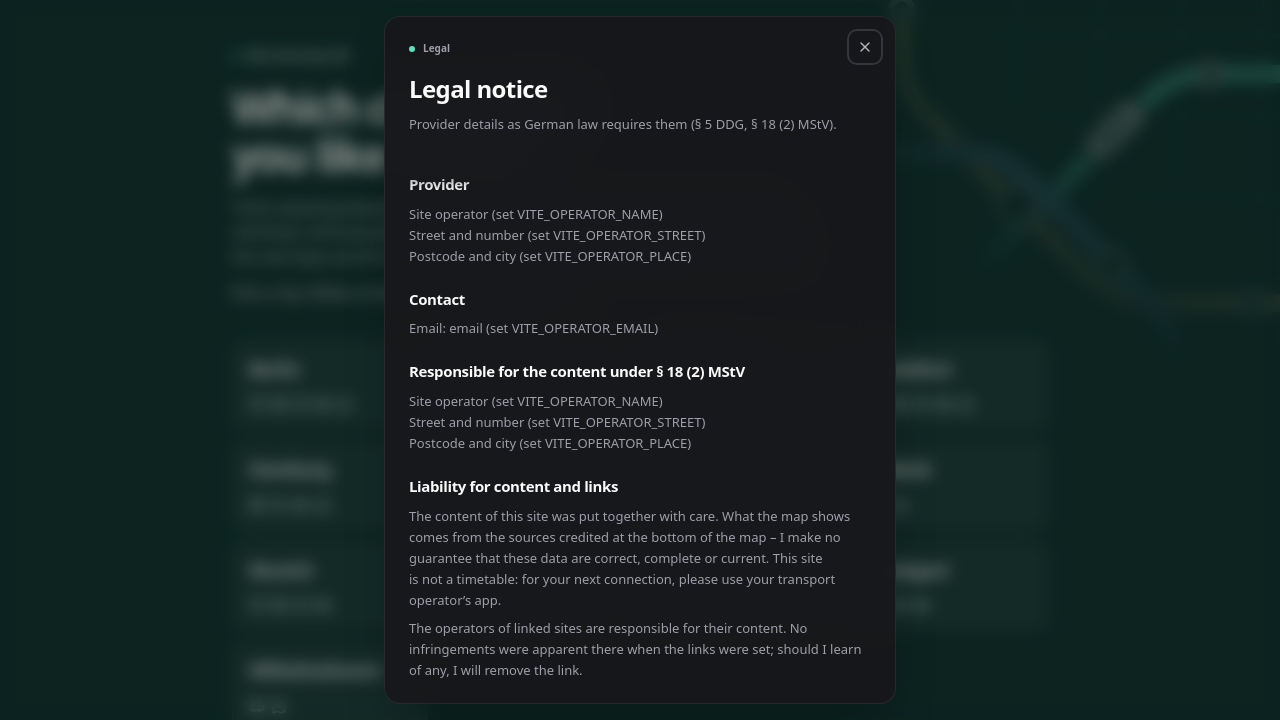
Test: App (UI shell) › opens the legal page’s notice over the door when its address is the one visited
This screenshot has width=1280, height=720.
Click the button named "Close" at (865, 47), box [849,31,881,63]
(page scrolled)
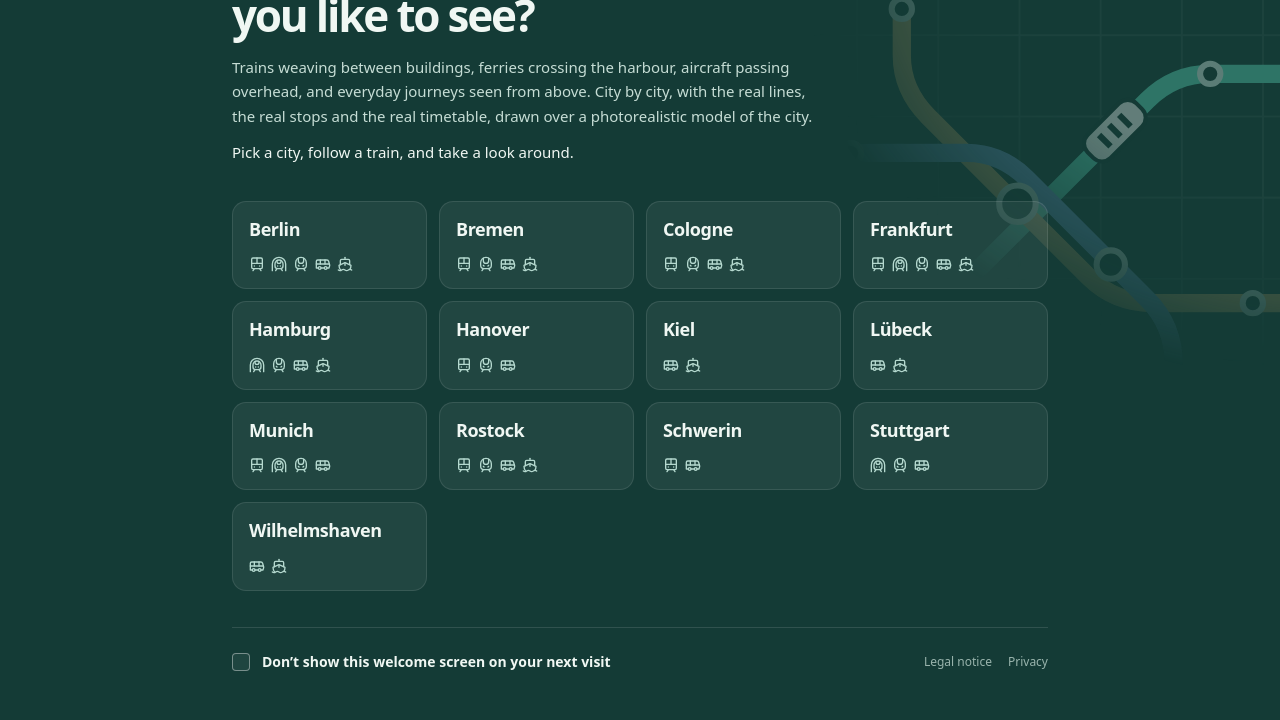
Check: the dialog with test id "legal-dialog" is gone
Note: The door's own links open it again
Click the link "Privacy" at (1028, 662), box [1008,654,1048,670]
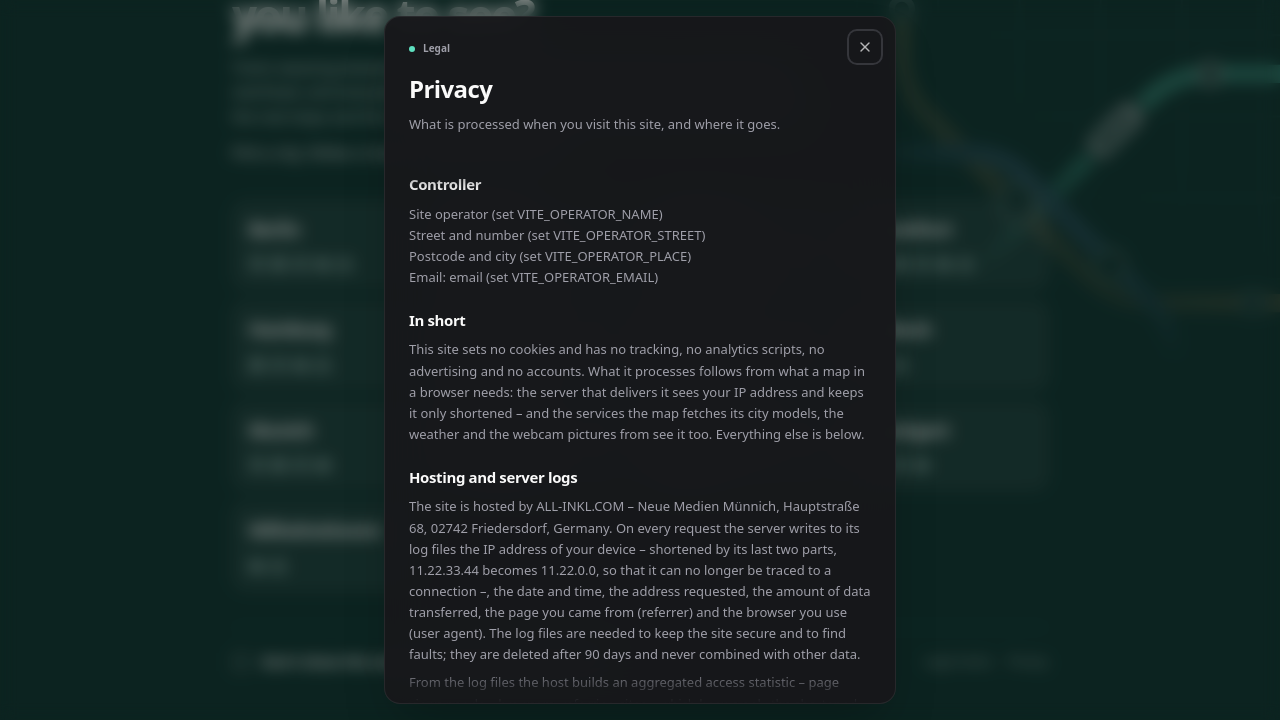
Check: the dialog "Privacy" is shown, box [384,16,896,704]
